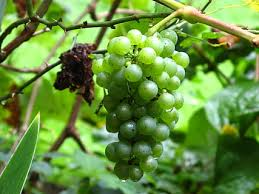grapes: (105, 26, 174, 188)
